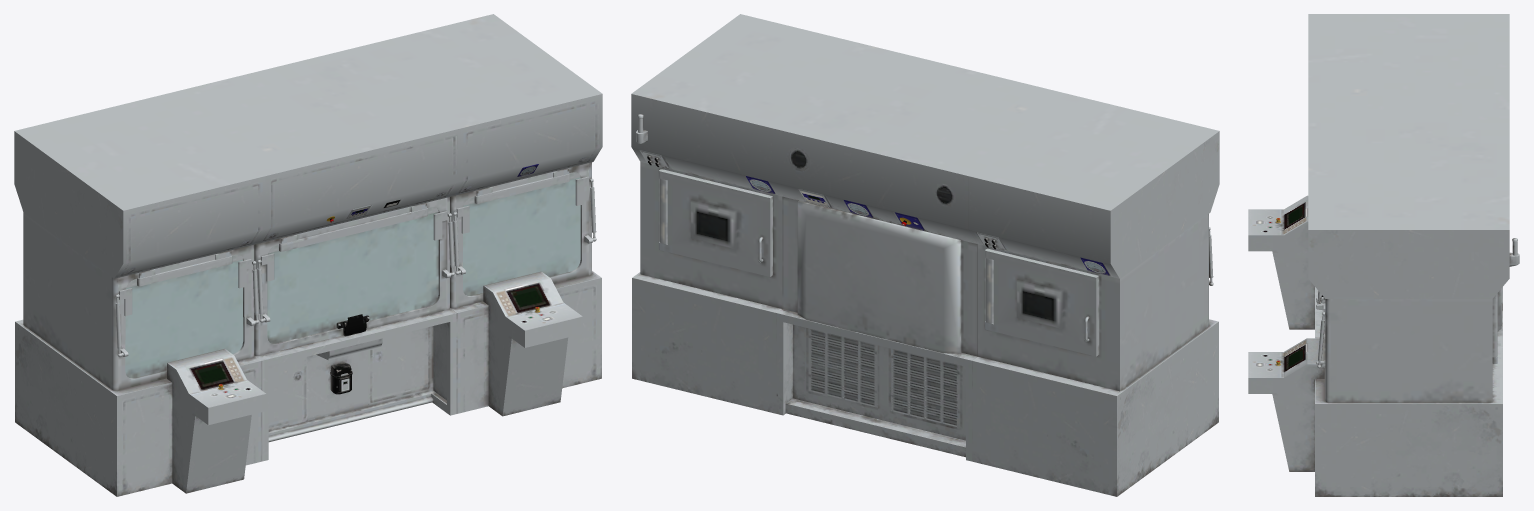
The model's file is sm23_021_cleanbench01a.fbx.
3 renders of one model, left to right at view 1: azimuth 30°, elevation 25°; view 2: azimuth 150°, elevation 25°; view 3: azimuth 270°, elevation 25°, orthographic. The views are drawn at different scales.
Visible parts, largest first — view 1: LOD_1_Group_1_Sub_2__sm23_021_CleanBench01A_C_Mat__Env_Defau, LOD_1_Group_2_Sub_1__sm23_021_CleanBench01A_D_Mat__Env_Alpha, LOD_1_Group_1_Sub_4__sm23_021_CleanBench01A_B_Mat__Env_Defau, LOD_1_Group_10_Sub_2__sm23_021_CleanBench01A_C_Mat__Env_Defa, LOD_1_Group_10_Sub_1__sm23_021_CleanBench01A_C_Mat__Env_Emis; view 2: LOD_1_Group_1_Sub_2__sm23_021_CleanBench01A_C_Mat__Env_Defau, LOD_1_Group_1_Sub_4__sm23_021_CleanBench01A_B_Mat__Env_Defau; view 3: LOD_1_Group_1_Sub_2__sm23_021_CleanBench01A_C_Mat__Env_Defau, LOD_1_Group_1_Sub_4__sm23_021_CleanBench01A_B_Mat__Env_Defau, LOD_1_Group_10_Sub_2__sm23_021_CleanBench01A_C_Mat__Env_Defa, LOD_1_Group_10_Sub_1__sm23_021_CleanBench01A_C_Mat__Env_Emis.
Boxes of the visible parts, <box> form: LOD_1_Group_1_Sub_2__sm23_021_CleanBench01A_C_Mat__Env_Defau: <box>14,14,602,496</box>; LOD_1_Group_2_Sub_1__sm23_021_CleanBench01A_D_Mat__Env_Alpha: <box>125,177,580,378</box>; LOD_1_Group_1_Sub_4__sm23_021_CleanBench01A_B_Mat__Env_Defau: <box>23,162,596,390</box>; LOD_1_Group_10_Sub_2__sm23_021_CleanBench01A_C_Mat__Env_Defa: <box>483,271,582,416</box>; LOD_1_Group_10_Sub_1__sm23_021_CleanBench01A_C_Mat__Env_Emis: <box>493,278,582,330</box>; LOD_1_Group_1_Sub_2__sm23_021_CleanBench01A_C_Mat__Env_Defau: <box>631,14,1219,496</box>; LOD_1_Group_1_Sub_4__sm23_021_CleanBench01A_B_Mat__Env_Defau: <box>640,162,1213,391</box>; LOD_1_Group_1_Sub_2__sm23_021_CleanBench01A_C_Mat__Env_Defau: <box>1248,14,1519,496</box>; LOD_1_Group_1_Sub_4__sm23_021_CleanBench01A_B_Mat__Env_Defau: <box>1316,287,1502,402</box>; LOD_1_Group_10_Sub_2__sm23_021_CleanBench01A_C_Mat__Env_Defa: <box>1248,338,1324,471</box>; LOD_1_Group_10_Sub_1__sm23_021_CleanBench01A_C_Mat__Env_Emis: <box>1248,338,1307,377</box>.
Size of the model in its own units: 4.46 by 2.53 by 2.34.
